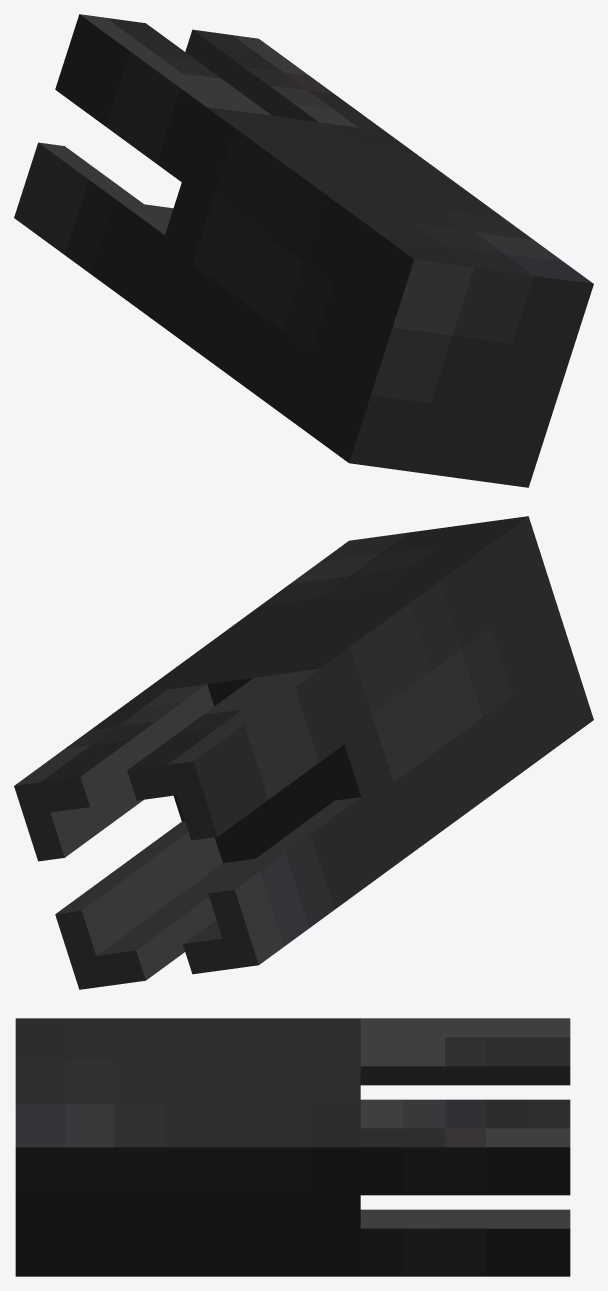
File: cmb_muzzlebooster.geo.fbx
3 renders of one model, top to bottom at view 1: azimuth 30°, elevation 25°; view 2: azimuth 150°, elevation 25°; view 3: azimuth 270°, elevation 25°, orthographic. The views are drawn at different scales.
Parts seen in each view (by area): view 1: gun; view 2: gun; view 3: gun.
Part boxes in pixels (x1,y1,x2,y2): gun: (14, 14, 593, 487); gun: (14, 516, 593, 989); gun: (15, 1018, 570, 1276).
Size of the model in its own units: 21.63 by 21.63 by 53.59.
Materials: 1 (1 with a texture image).
